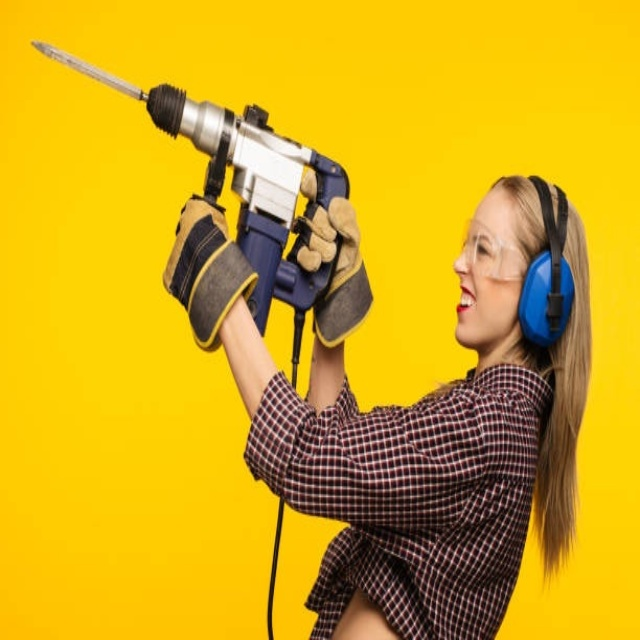Gafas: (458, 229, 531, 280)
Guantes: (162, 195, 261, 353), (299, 185, 373, 348)
Sin_mascara: (455, 284, 476, 315)
